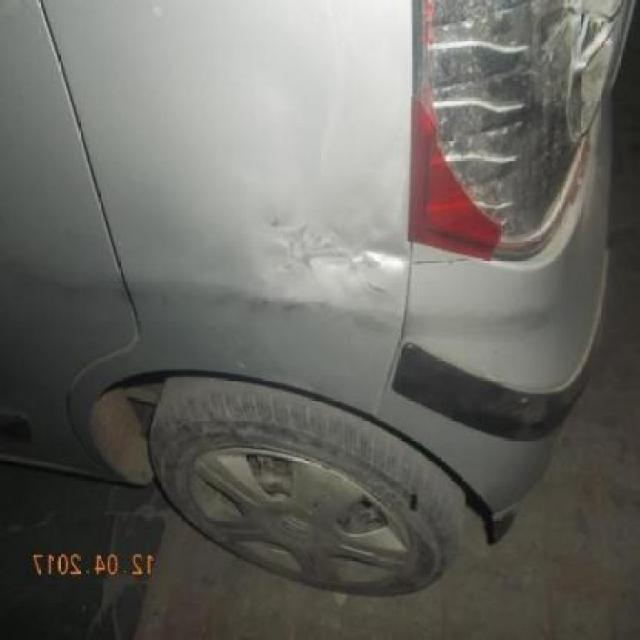damage: (410, 0, 631, 259), (5, 272, 551, 344), (266, 204, 422, 298), (411, 247, 482, 273)
